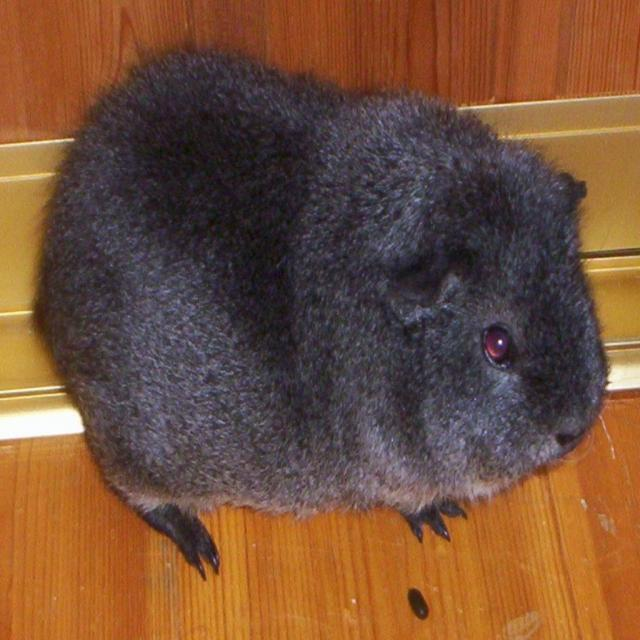rat: (36, 51, 620, 555)
